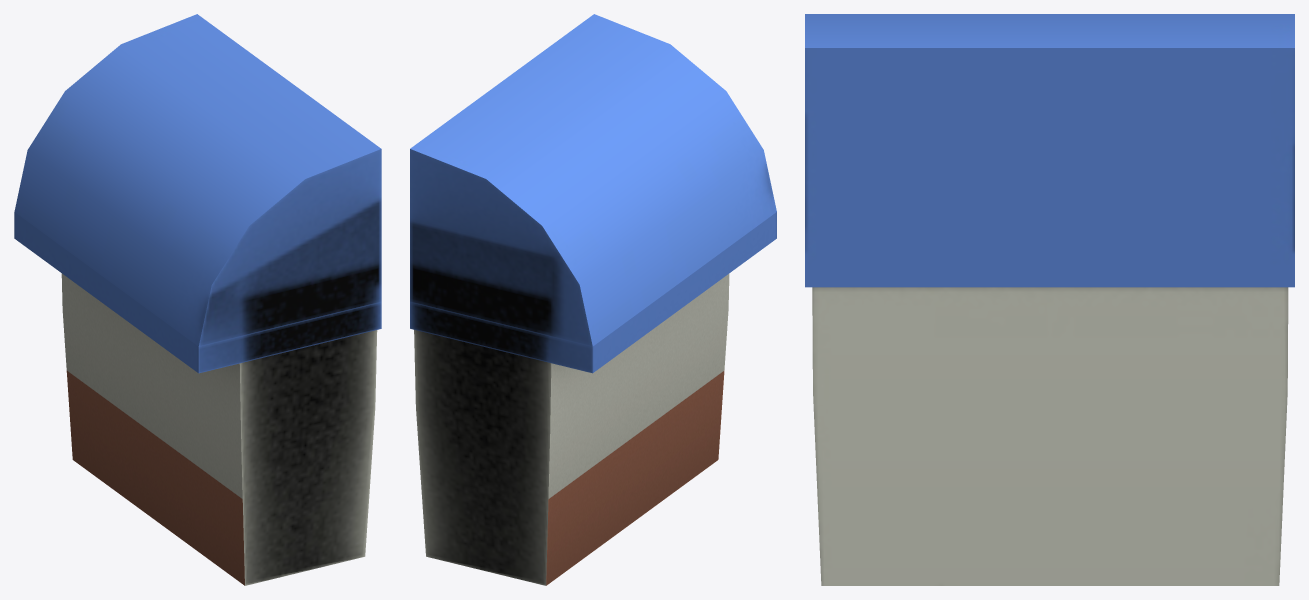
File: FS_BlueStore.fbx
3 renders of one model, left to right at view 1: azimuth 30°, elevation 25°; view 2: azimuth 150°, elevation 25°; view 3: azimuth 270°, elevation 25°, orthographic. The views are drawn at different scales.
Visible parts, largest first — view 1: roof7, shop7; view 2: roof7, shop7; view 3: shop7, roof7.
Part boxes in pixels (bbox=[...]): roof7: bbox=[14, 14, 381, 373]; shop7: bbox=[61, 273, 377, 585]; roof7: bbox=[410, 14, 776, 373]; shop7: bbox=[414, 274, 729, 585]; shop7: bbox=[812, 287, 1288, 585]; roof7: bbox=[805, 14, 1294, 287].
Bounding box in the file's own units: 71.63 × 153 × 125.
1 material, 1 textured.
